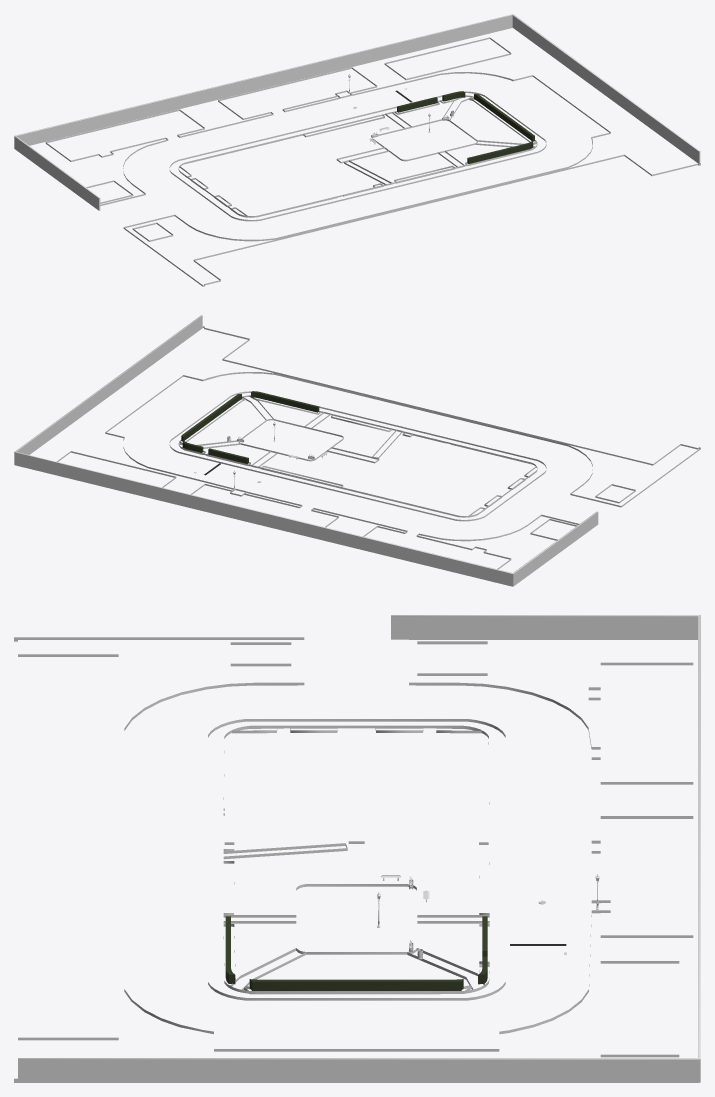
Rendered from cell_0_0.lite.glb.
3 views of the same model, one above another, from view 1: azimuth 30°, elevation 25°; view 2: azimuth 150°, elevation 25°; view 3: azimuth 270°, elevation 25° (orthographic). The views are drawn at different scales.
Visible parts, largest first — view 1: cell_0_0; view 2: cell_0_0; view 3: cell_0_0.
Boxes of the visible parts, <box> form: cell_0_0: <box>14,14,700,286</box>; cell_0_0: <box>14,315,700,586</box>; cell_0_0: <box>14,615,700,1082</box>.
Bounding box in the file's own units: 104 × 4.21 × 68.15.
